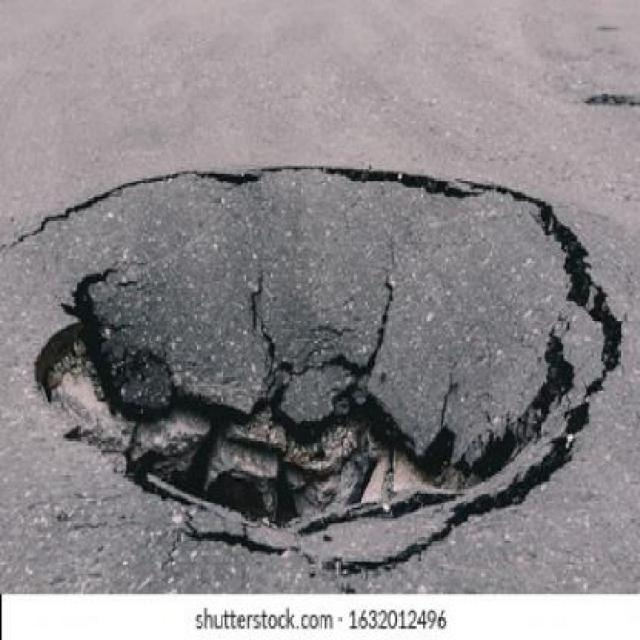Pothole: (17, 168, 621, 574)
